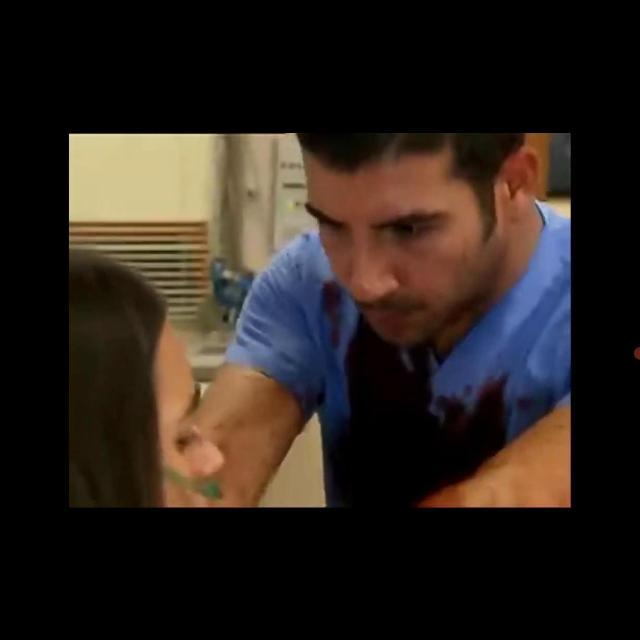blood: (344, 313, 508, 507), (323, 279, 342, 348)
